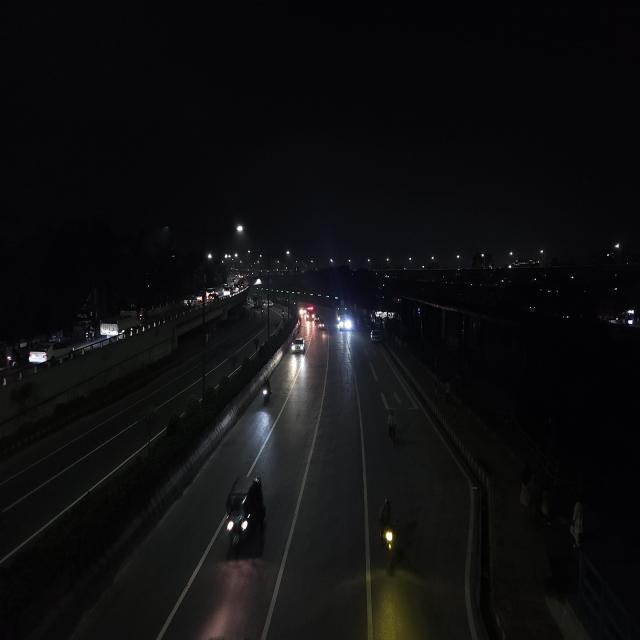bicycle: (382, 411, 404, 452)
bus: (336, 304, 352, 332), (306, 303, 314, 324)
car: (27, 342, 59, 367), (290, 335, 306, 356), (369, 324, 384, 346), (206, 290, 218, 302), (222, 287, 232, 299)
cng: (222, 471, 270, 561), (318, 319, 327, 333)
motorcycle: (377, 495, 399, 575), (258, 377, 274, 408)
truck: (100, 312, 144, 337)
